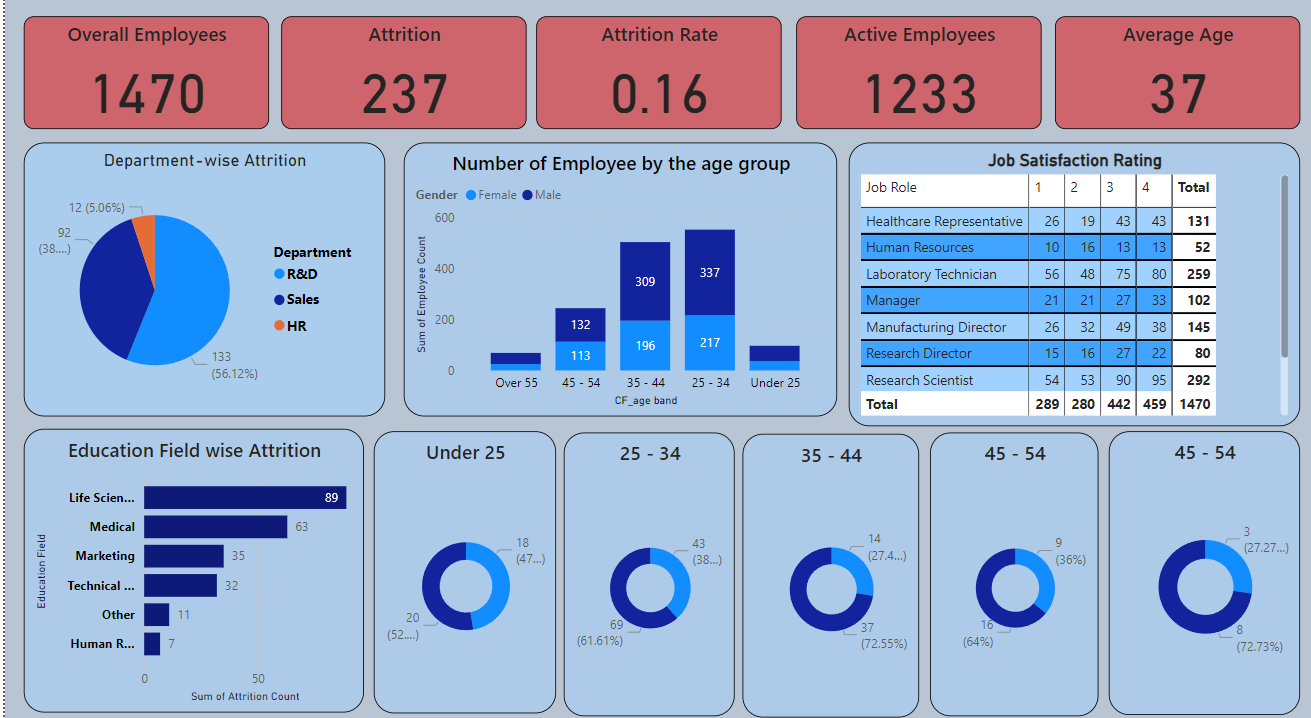

This screenshot's page, from the dashboard's own definition file:
{"tool":"powerbi","page":{"name":"Page 1","canvas":[1280,720],"ordinal":0},"visuals":[{"type":"card","title":"Overall Employees","fields":{"Values":["Sum(HR data.Employee Count)"]},"box":[18.3,25.7,239.7,110.1],"z":0},{"type":"card","title":"Attrition","fields":{"Values":["Sum(HR data.Attrition Count)"]},"box":[270.2,25.7,239.7,110.1],"z":1000},{"type":"card","title":"Attrition Rate","fields":{"Values":["HR data.Attrition Rate"]},"box":[519.7,25.7,239.7,110.1],"z":2000},{"type":"card","title":"Active Employees","fields":{"Values":["HR data.Active Employees"]},"box":[774.1,25.7,239.7,110.1],"z":3000},{"type":"card","title":"Average Age","fields":{"Values":["Avg(HR data.Age)"]},"box":[1027.2,25.7,239.7,110.1],"z":4000},{"type":"pieChart","title":"Department-wise Attrition","fields":{"Category":["HR data.Department"],"Y":["Sum(HR data.Attrition Count)"]},"box":[18.3,149.2,353.4,267.8],"z":5000},{"type":"columnChart","title":"Number of Employee by the age group","fields":{"Category":["HR data.CF_age band"],"Y":["Sum(HR data.Employee Count)"],"Series":["HR data.Gender"]},"box":[390.1,149.2,424.3,267.8],"z":6000},{"type":"pivotTable","title":"Job Satisfaction Rating","fields":{"Rows":["HR data.Job Role"],"Columns":["HR data.Job Satisfaction"],"Values":["Sum(HR data.Employee Count)"]},"box":[825.4,149.2,441.4,277.6],"z":7000},{"type":"barChart","title":"Education Field wise Attrition ","fields":{"Category":["HR data.Education Field"],"Y":["Sum(HR data.Attrition Count)"]},"box":[18.3,429.2,332.6,277.6],"z":8000},{"type":"donutChart","title":"Under 25","fields":{"Y":["Sum(HR data.Attrition Count)"],"Category":["HR data.Gender"],"Series":["HR data.CF_age band"]},"box":[360.7,431.7,178.5,276.4],"z":8001},{"type":"donutChart","title":"25 - 34","fields":{"Y":["Sum(HR data.Attrition Count)"],"Category":["HR data.Gender"],"Series":["HR data.CF_age band"]},"box":[546.6,432.9,167.5,277.6],"z":8002},{"type":"donutChart","title":"35 - 44","fields":{"Y":["Sum(HR data.Attrition Count)"],"Category":["HR data.Gender"],"Series":["HR data.CF_age band"]},"box":[721.5,434.1,172.4,277.6],"z":8003},{"type":"donutChart","title":"45 - 54","fields":{"Y":["Sum(HR data.Attrition Count)"],"Category":["HR data.Gender"],"Series":["HR data.CF_age band"]},"box":[904.9,432.9,165.1,277.6],"z":8004},{"type":"donutChart","title":"45 - 54","fields":{"Y":["Sum(HR data.Attrition Count)"],"Category":["HR data.Gender"],"Series":["HR data.CF_age band"]},"box":[1079.8,431.7,187.1,277.6],"z":8005}]}

Visuals, with their boxes in screenshot pixels (x1, y1, x2, y2), scaled from the page's 1280x720 canvas onto the 1311x718 screenshot:
"Overall Employees" card: crop(19, 26, 264, 135)
"Attrition" card: crop(277, 26, 522, 135)
"Attrition Rate" card: crop(532, 26, 778, 135)
"Active Employees" card: crop(793, 26, 1038, 135)
"Average Age" card: crop(1052, 26, 1298, 135)
"Department-wise Attrition" pieChart: crop(19, 149, 381, 416)
"Number of Employee by the age group" columnChart: crop(400, 149, 834, 416)
"Job Satisfaction Rating" pivotTable: crop(845, 149, 1297, 426)
"Education Field wise Attrition " barChart: crop(19, 428, 359, 705)
"Under 25" donutChart: crop(369, 431, 552, 706)
"25 - 34" donutChart: crop(560, 432, 731, 709)
"35 - 44" donutChart: crop(739, 433, 916, 710)
"45 - 54" donutChart: crop(927, 432, 1096, 709)
"45 - 54" donutChart: crop(1106, 431, 1298, 707)
